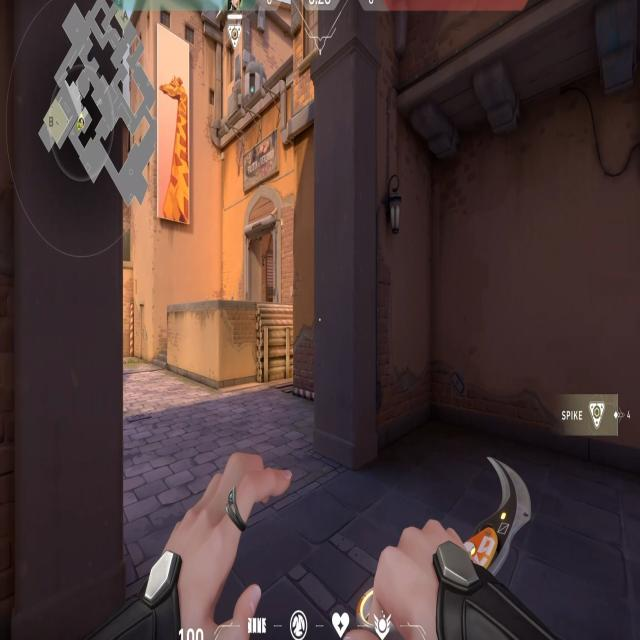B_Cubby: (214, 294, 295, 390)
